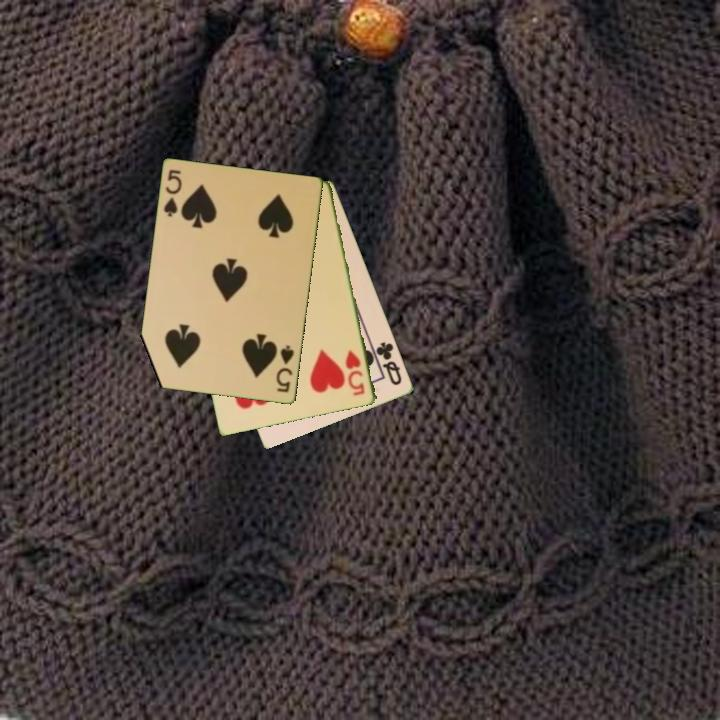5h: (342, 346, 368, 399)
5s: (160, 166, 185, 220), (273, 342, 297, 395)
Qc: (369, 338, 405, 389)
